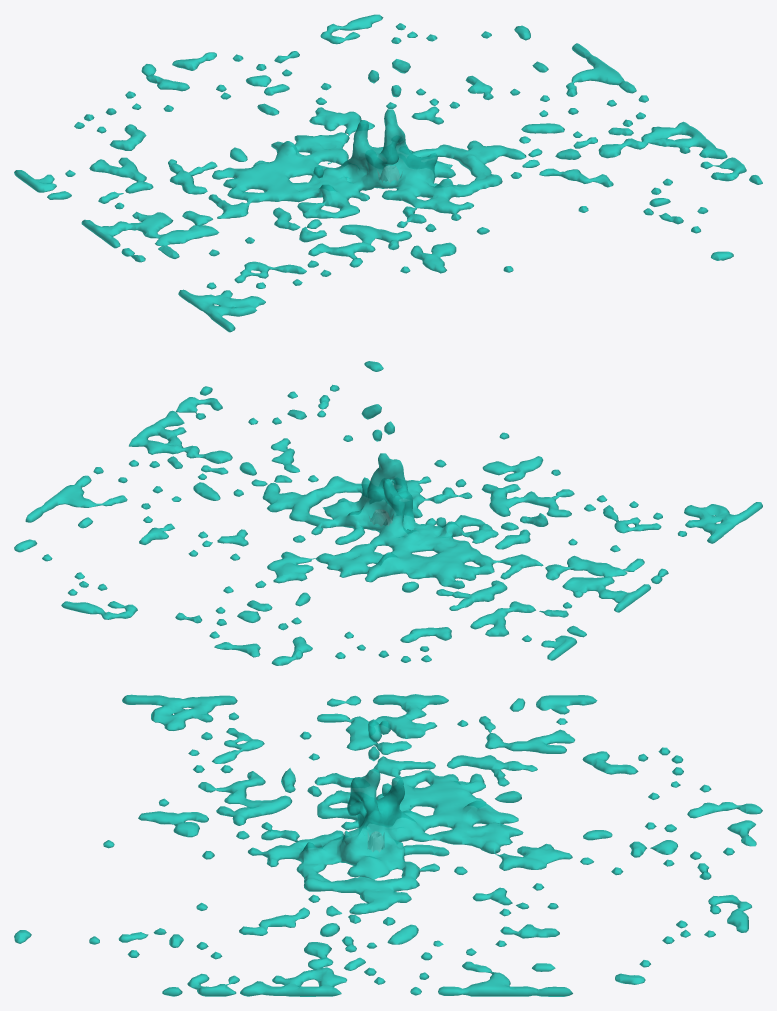
The picture shows the model from 3 angles, top to bottom: view 1: azimuth 30°, elevation 25°; view 2: azimuth 150°, elevation 25°; view 3: azimuth 270°, elevation 25°; orthographic projection. The views are drawn at different scales.
Parts seen in each view (by area): view 1: Liquid_Domain; view 2: Liquid_Domain; view 3: Liquid_Domain.
Part boxes in pixels (x1,y1,x2,y2): Liquid_Domain: [14, 14, 762, 332]; Liquid_Domain: [14, 361, 762, 665]; Liquid_Domain: [14, 694, 762, 996].
Bounding box in the file's own units: 12.43 × 2.64 × 13.29.
